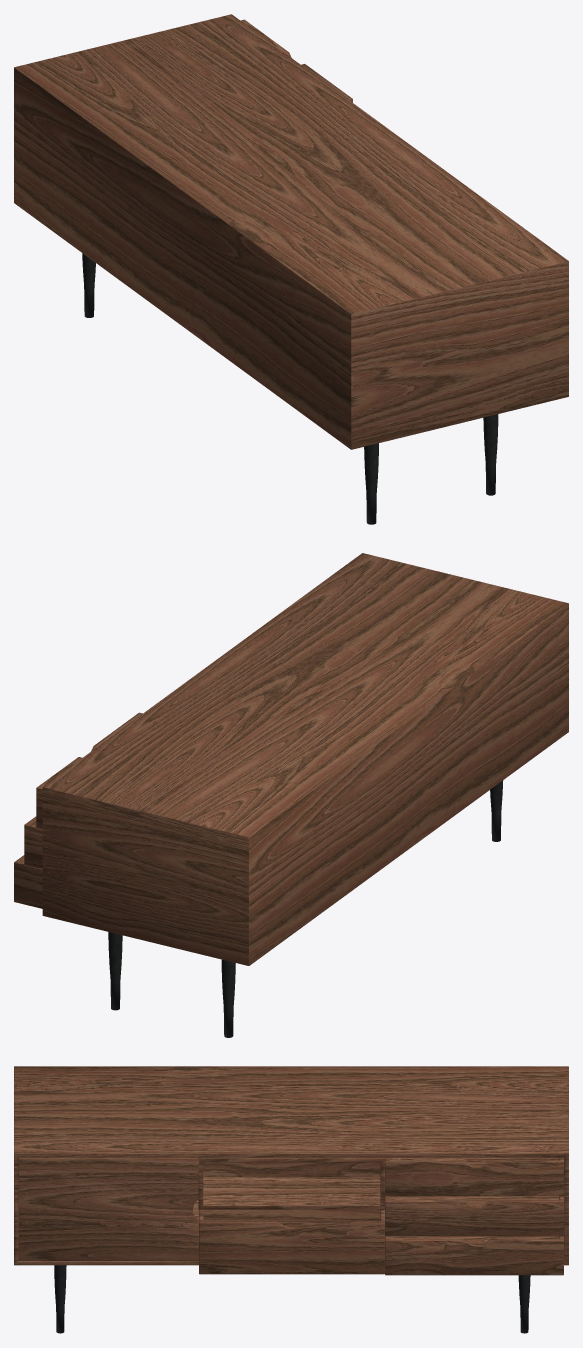
The model's file is closet2.fbx.
3 views of the same model, one above another, from view 1: azimuth 30°, elevation 25°; view 2: azimuth 150°, elevation 25°; view 3: azimuth 270°, elevation 25° (orthographic). The views are drawn at different scales.
Parts seen in each view (by area): view 1: Cylinder.002, Cylinder.008; view 2: Cylinder.002, Cylinder.008, Cylinder.005, Cylinder.007, Cylinder.006; view 3: Cylinder.002, Cylinder.004, Cylinder.007, Cylinder.006, Cylinder.005, Cylinder.008.
Part boxes in pixels (x1=…): Cylinder.002: x1=14, y1=14, x2=568, y2=449; Cylinder.008: x1=82, y1=253, x2=498, y2=524; Cylinder.002: x1=42, y1=553, x2=568, y2=965; Cylinder.008: x1=108, y1=780, x2=503, y2=1037; Cylinder.005: x1=14, y1=855, x2=42, y2=908; Cylinder.007: x1=24, y1=816, x2=42, y2=869; Cylinder.006: x1=36, y1=712, x2=142, y2=828; Cylinder.002: x1=14, y1=1066, x2=568, y2=1265; Cylinder.004: x1=199, y1=1209, x2=384, y2=1274; Cylinder.007: x1=385, y1=1196, x2=563, y2=1236; Cylinder.006: x1=385, y1=1157, x2=563, y2=1196; Cylinder.005: x1=385, y1=1236, x2=563, y2=1275; Cylinder.008: x1=54, y1=1265, x2=530, y2=1333.
Bounding box in the file's own units: 2177 × 1997 × 5067.
6 materials, 6 textured.
